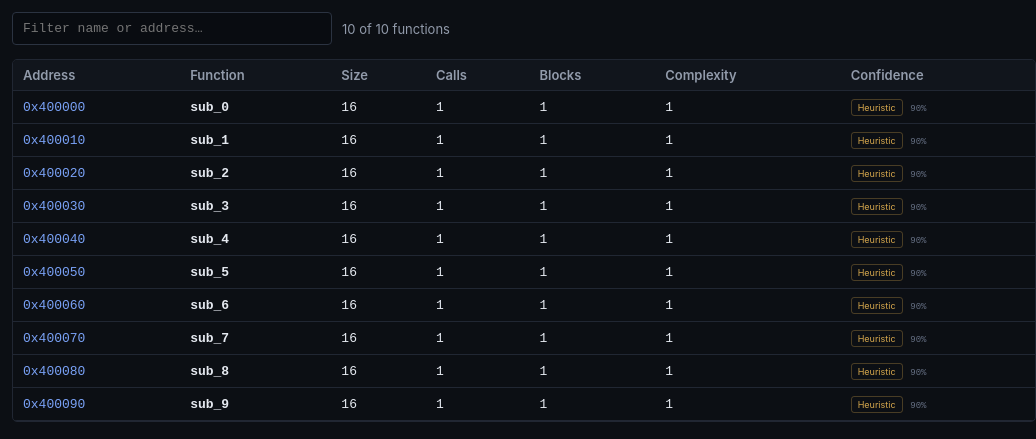
Test: FunctionsTab windowing and interaction › filters by name and reports the visible count
Expected: the text "sub_0" is shown, [190,100,229,114]
Type "sub_7" into the search field named "Filter functions" at x=172, y=28, box [12,12,332,45]
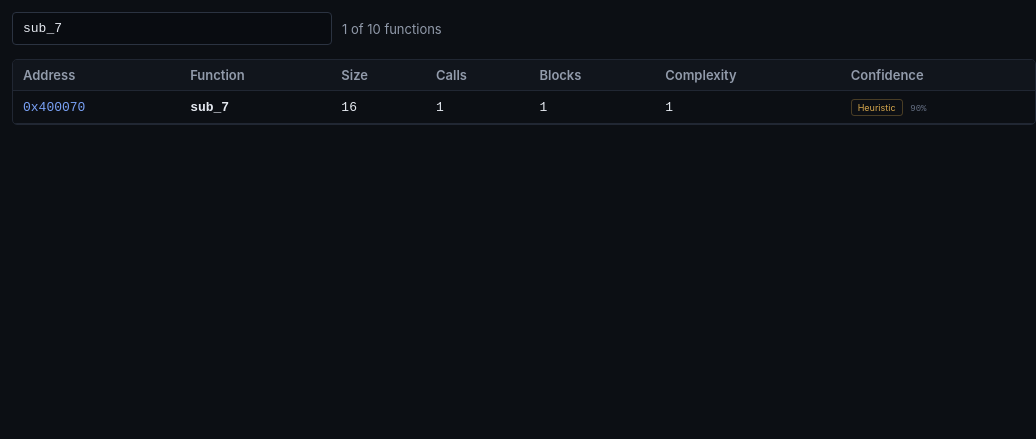
Now the text "1 of 10 functions" is shown, box [342,20,442,36]
